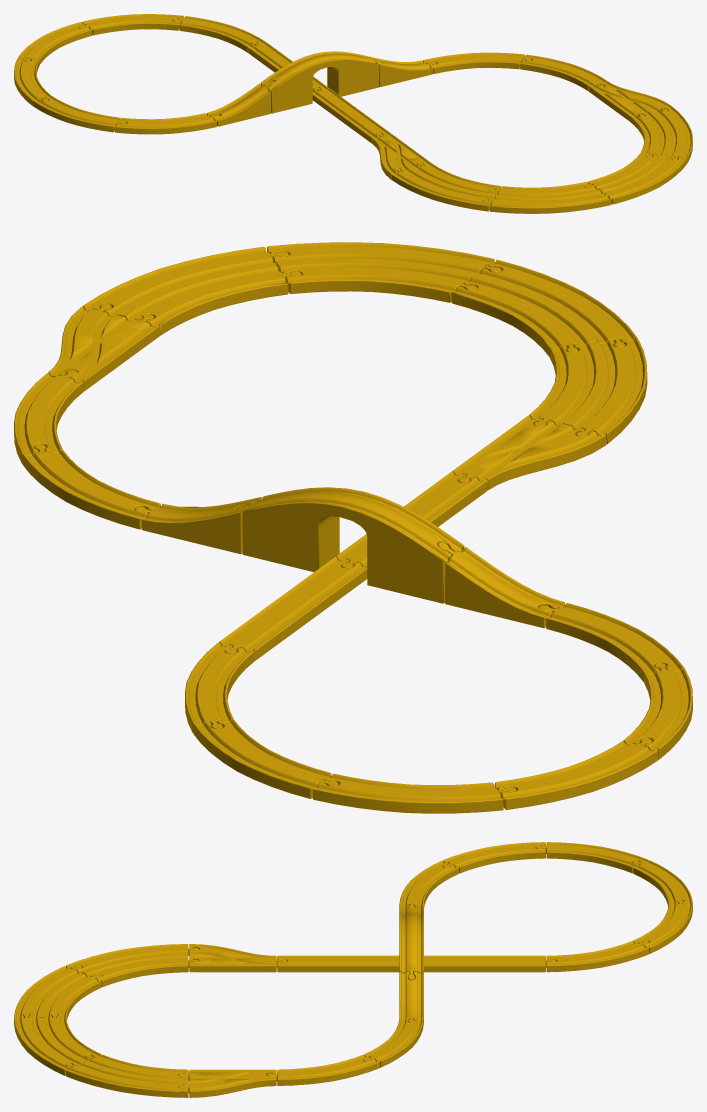
File: pista_LOD0.fbx
3 views of the same model, one above another, from view 1: azimuth 30°, elevation 25°; view 2: azimuth 150°, elevation 25°; view 3: azimuth 270°, elevation 25° (orthographic). The views are drawn at different scales.
Visible parts, largest first — view 1: pistaa; view 2: pistaa; view 3: pistaa.
Part boxes in pixels (bbox=[...]): pistaa: bbox=[14, 14, 692, 213]; pistaa: bbox=[14, 242, 692, 813]; pistaa: bbox=[14, 842, 692, 1097].
Bounding box in the file's own units: 286 × 22.57 × 329.
